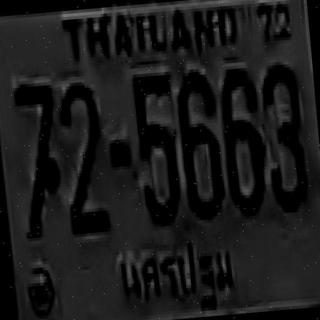N02: (57, 78, 108, 232)
N03: (258, 60, 308, 211)
N05: (130, 70, 180, 224)
N06: (174, 68, 224, 218), (217, 64, 266, 215)
N07: (11, 79, 62, 236)
P28: (113, 229, 239, 318)
